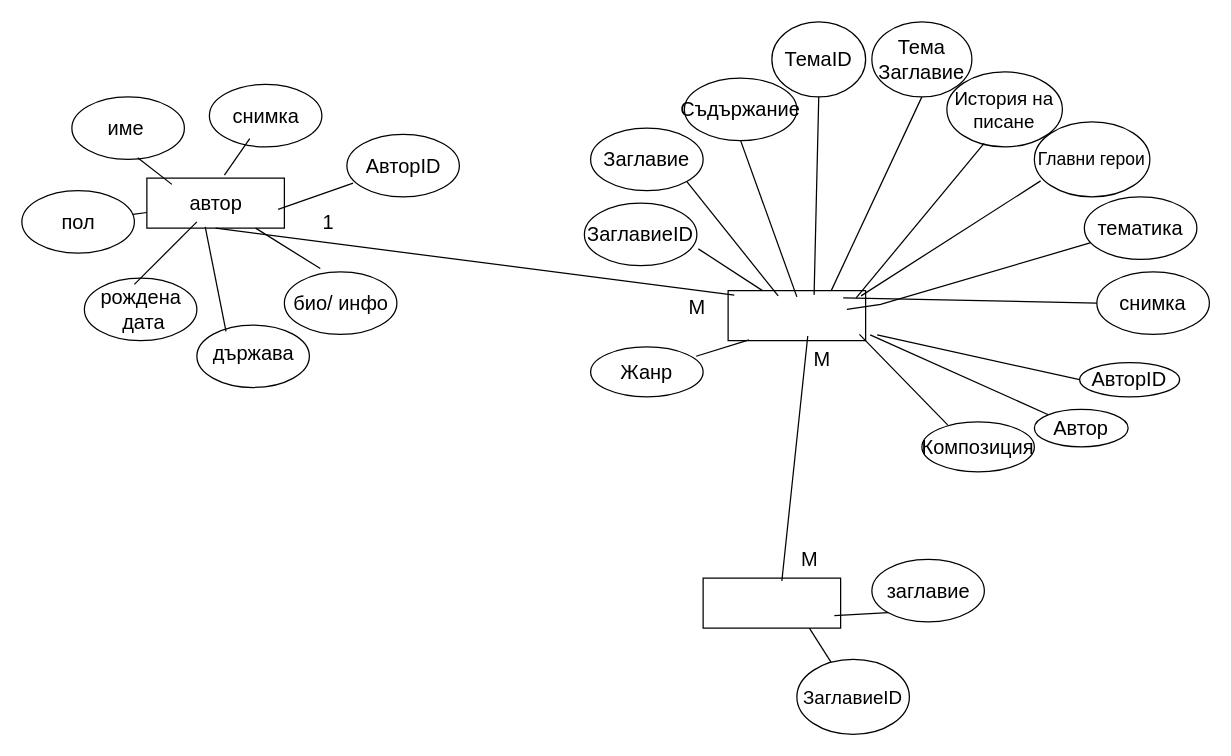
This 1231x756 diagram has some shape labels left out. The centre of each missing label's shape, as x and y in pixels:
"произведение" belongs at pixel 796 315.
"тема" belongs at pixel 771 602.
